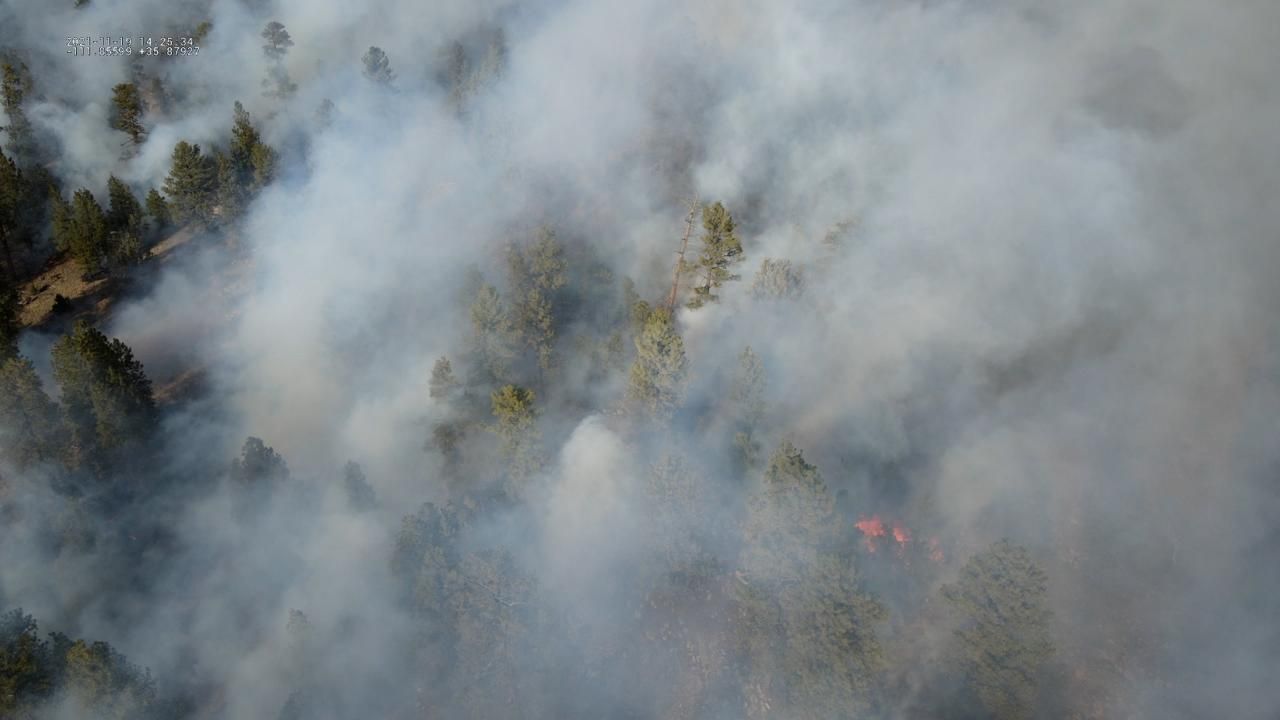fire: (852, 514, 886, 552), (891, 524, 914, 559), (928, 550, 944, 562)
smoke: (0, 0, 1280, 720)
